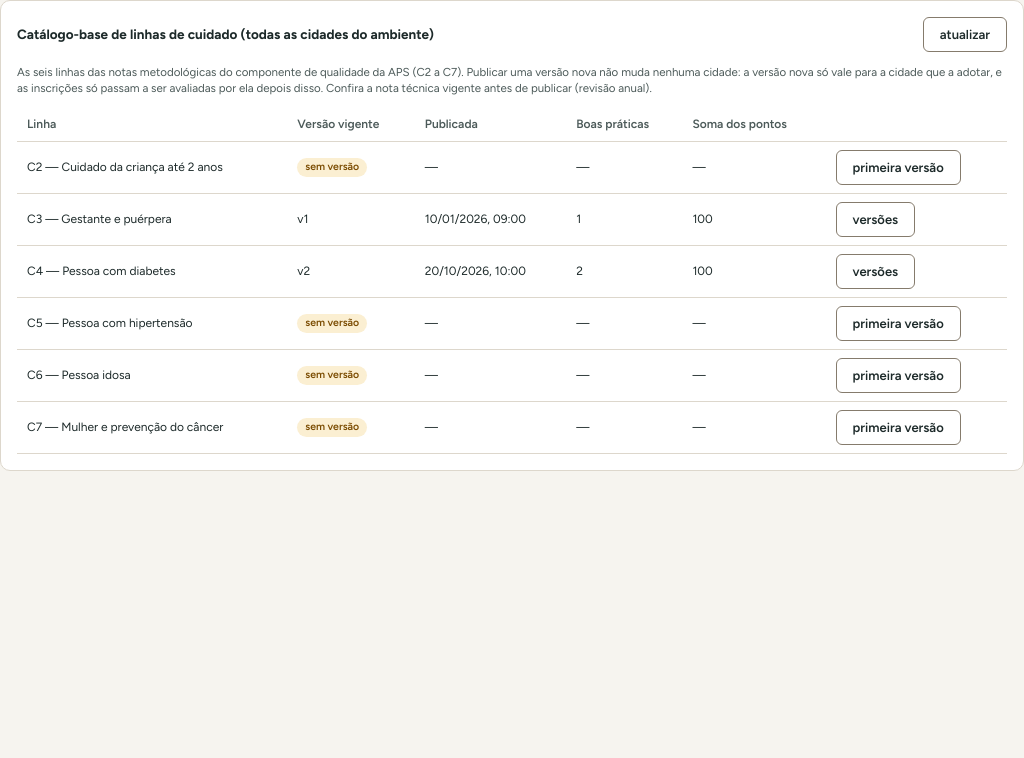
Test: CareLineTemplateForm › primeira versão de uma chave sem versão usa o nome e o indicador do contrato
The image size is (1024, 758).
Click the button "primeira versão" in the row of "C2 — Cuidado da criança até 2 anos" at (898, 168), box [836,150,961,185]
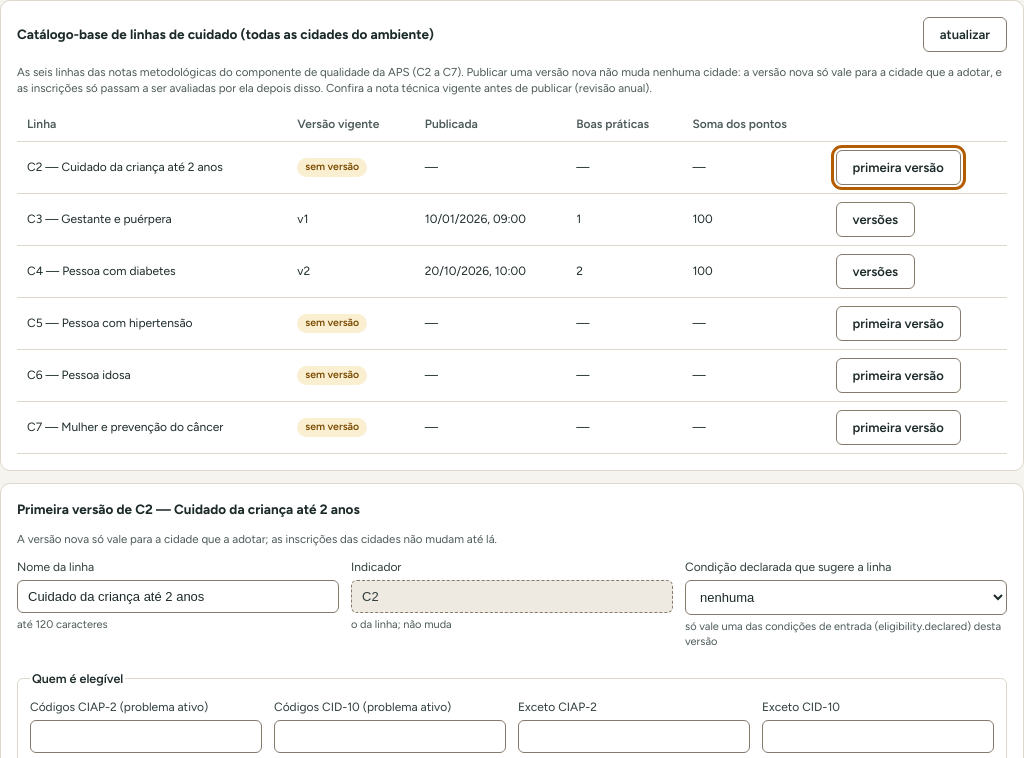
Now the heading "Primeira versão de C2 — Cuidado da criança até 2 anos" is shown, box [17,500,360,519]
Now the field labelled "Nome da linha" holds "Cuidado da criança até 2 anos", box [17,580,339,613]
Now the field labelled "Indicador" holds "C2", box [351,580,673,613]
